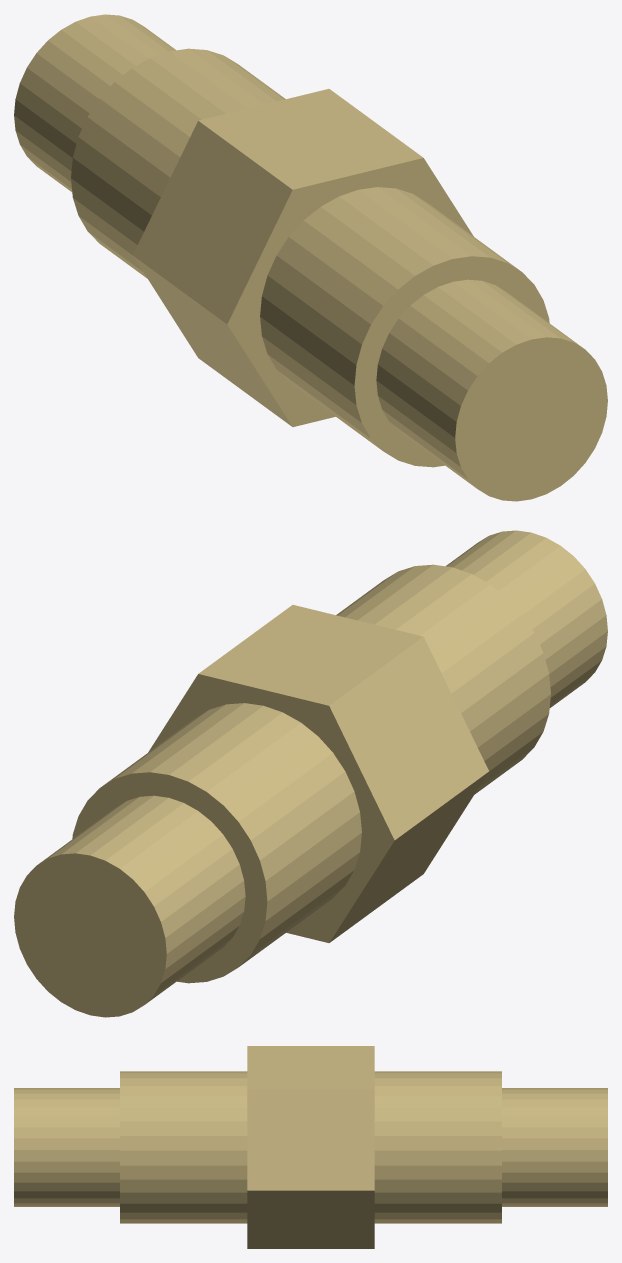
3 renders of one model, top to bottom at view 1: azimuth 30°, elevation 25°; view 2: azimuth 150°, elevation 25°; view 3: azimuth 270°, elevation 25°, orthographic. The views are drawn at different scales.
Parts seen in each view (by area): view 1: world; view 2: world; view 3: world.
Part boxes in pixels (bbox=[...]): world: bbox=[14, 14, 607, 501]; world: bbox=[14, 530, 607, 1017]; world: bbox=[14, 1046, 607, 1248].
Bounding box in the file's own units: 0.456 × 0.3949 × 1.33.
